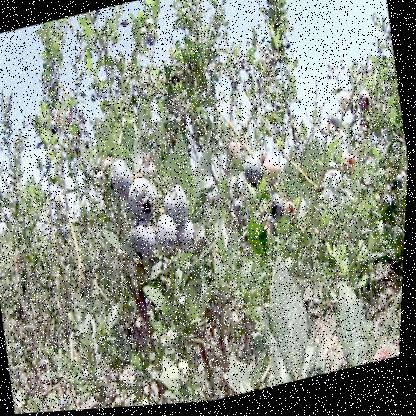intermediate: (261, 156, 288, 196), (227, 141, 251, 174), (342, 155, 361, 186), (284, 199, 302, 230), (335, 94, 355, 120), (104, 156, 116, 176)
mature: (159, 184, 196, 235), (125, 175, 161, 226), (126, 220, 164, 267), (153, 213, 185, 267), (174, 217, 204, 264), (111, 160, 137, 202), (267, 193, 292, 233), (244, 160, 268, 198), (356, 90, 379, 122), (383, 193, 397, 216)
young: (138, 18, 155, 43), (158, 70, 171, 91)
